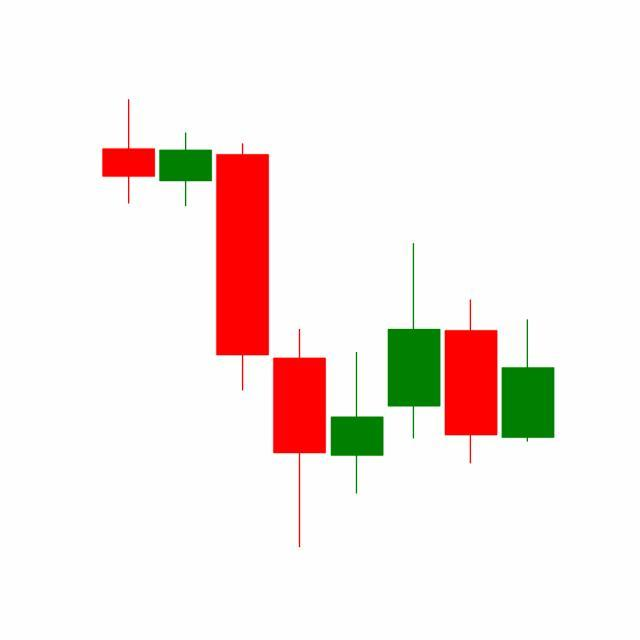Upside-Downside Gap Three Methods: (328, 242, 500, 498)
